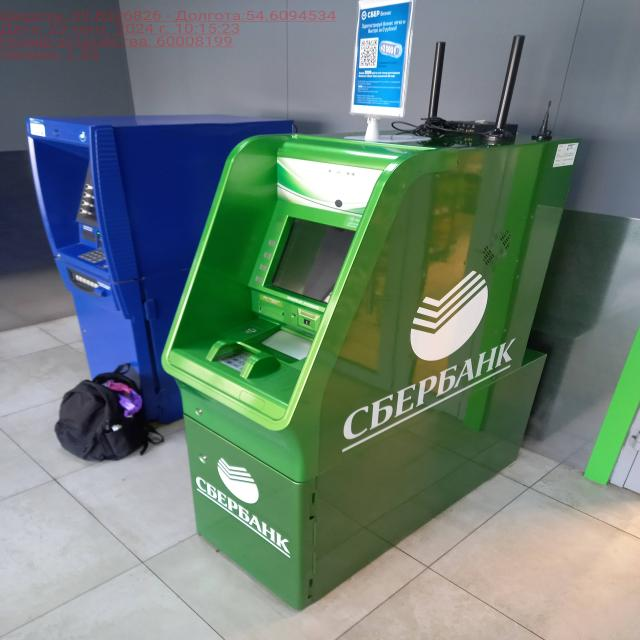bank: (164, 120, 581, 607)
